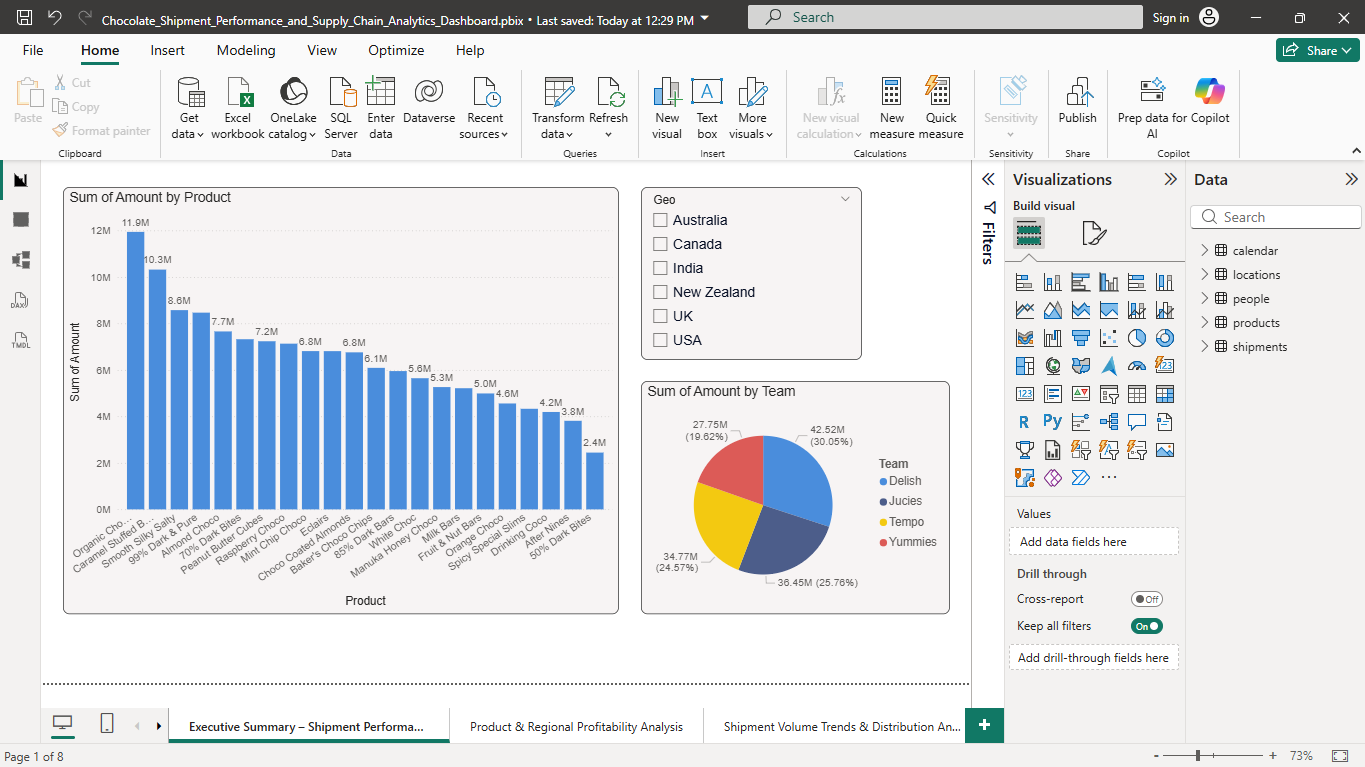

This screenshot's page, from the dashboard's own definition file:
{"tool":"powerbi","page":{"name":"Executive Summary – Shipment Performance Overview","canvas":[1280,720],"ordinal":0},"visuals":[{"type":"columnChart","fields":{"Category":["products.Product"],"Y":["Sum(shipments.Amount)"]},"box":[30.3,37.2,765.2,587.7],"z":0},{"type":"slicer","fields":{"Values":["locations.Geo"]},"box":[825.8,37.2,304.2,238.1],"z":1000},{"type":"pieChart","fields":{"Y":["Sum(shipments.Amount)"],"Category":["people.Team"]},"box":[825.8,304.2,425.3,320.7],"z":2000}]}

Visuals, with their boxes on the page's 1280x720 design canvas (x1, y1, x2, y2). These are canvas units, not pixel positions in the 1365x767 screenshot, which may show the page scaled, cropped or inside an application window:
columnChart - products.Product x Sum(shipments.Amount): 30,37,796,625
slicer - locations.Geo: 826,37,1130,275
pieChart - Sum(shipments.Amount) x people.Team: 826,304,1251,625
